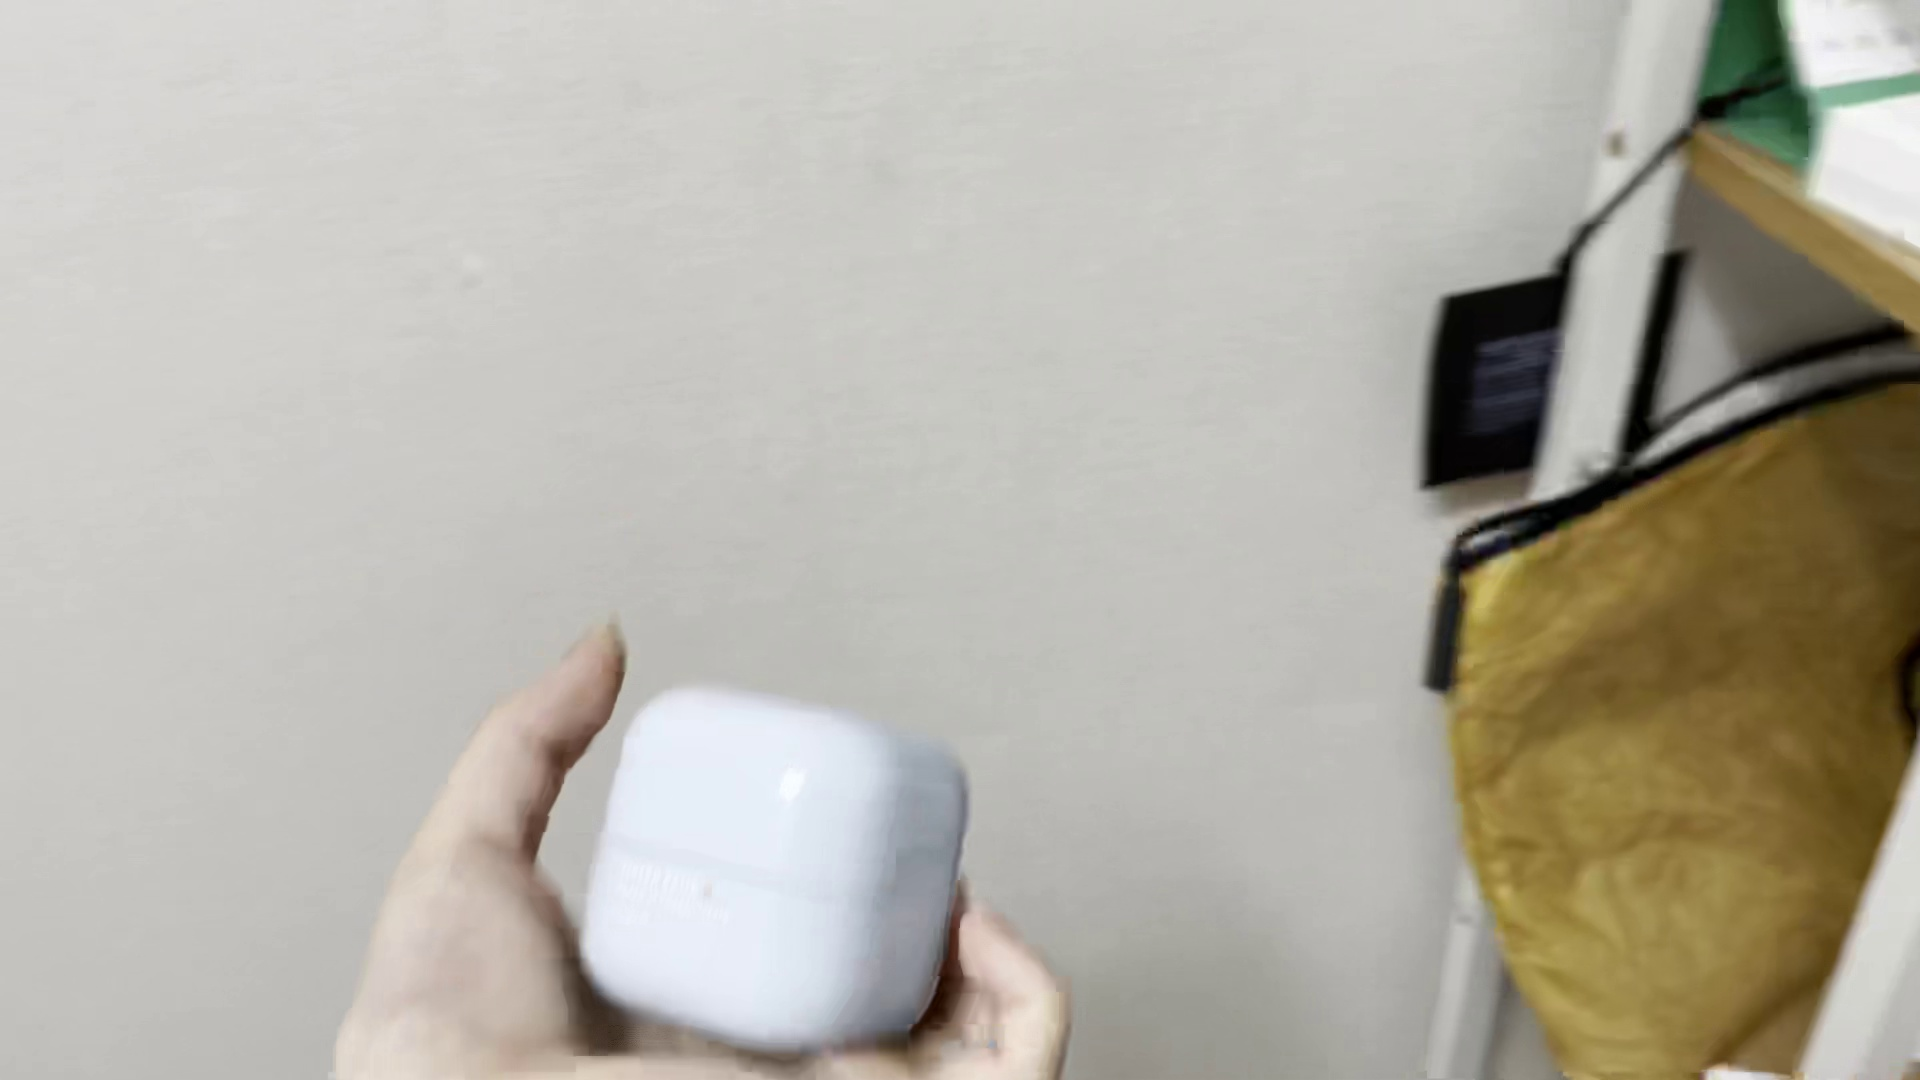cream: (578, 686, 967, 1058)
